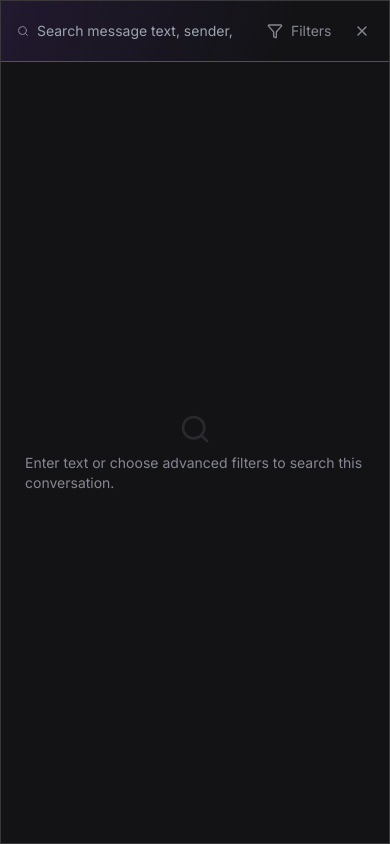
Test case: MessageSearch › shows server search failures without exposing stale results
Type "missing" into the search field named "Search messages" at (142, 31), box [37,21,247,41]
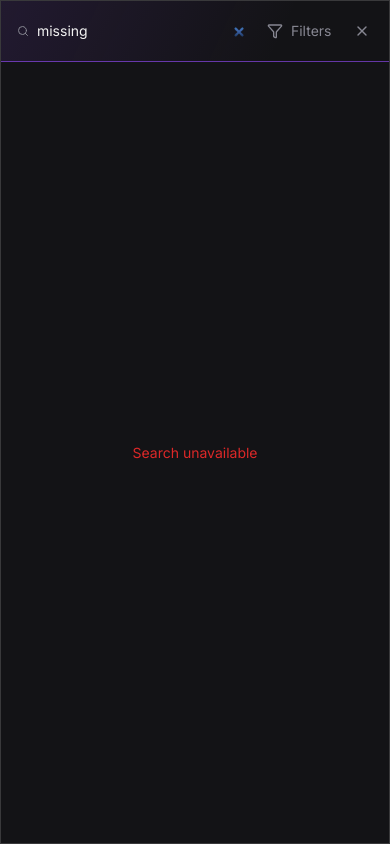
expect the text "Search unavailable" is shown: met, box [132,444,258,460]
